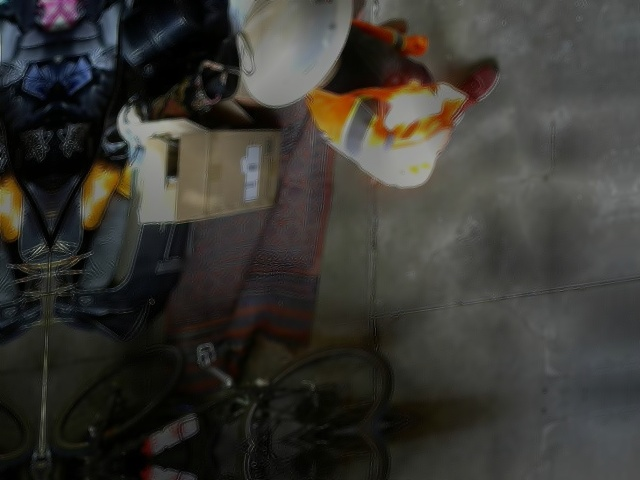one: (234, 31, 254, 76)
